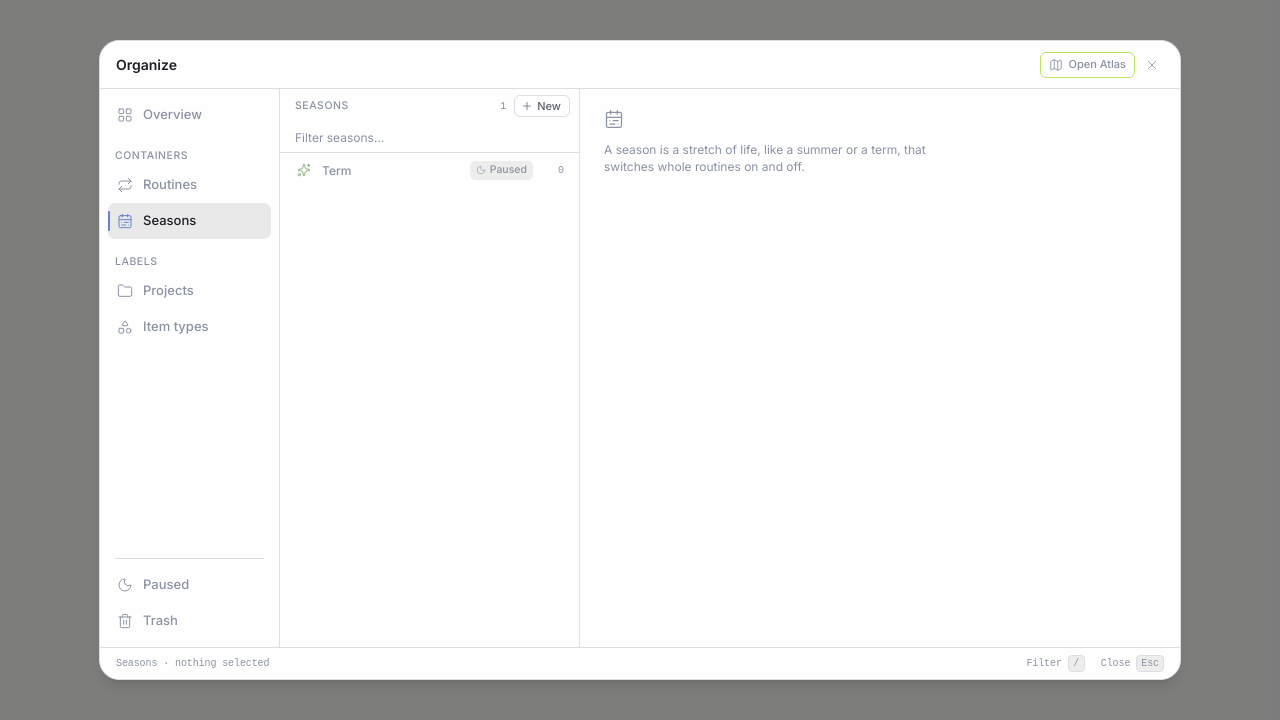
it: the seasons section › states what paused with {} actually means
The image size is (1280, 720).
Click the button with test id "season-row".
click(501, 170)  # box x1=288 y1=153 x2=571 y2=187
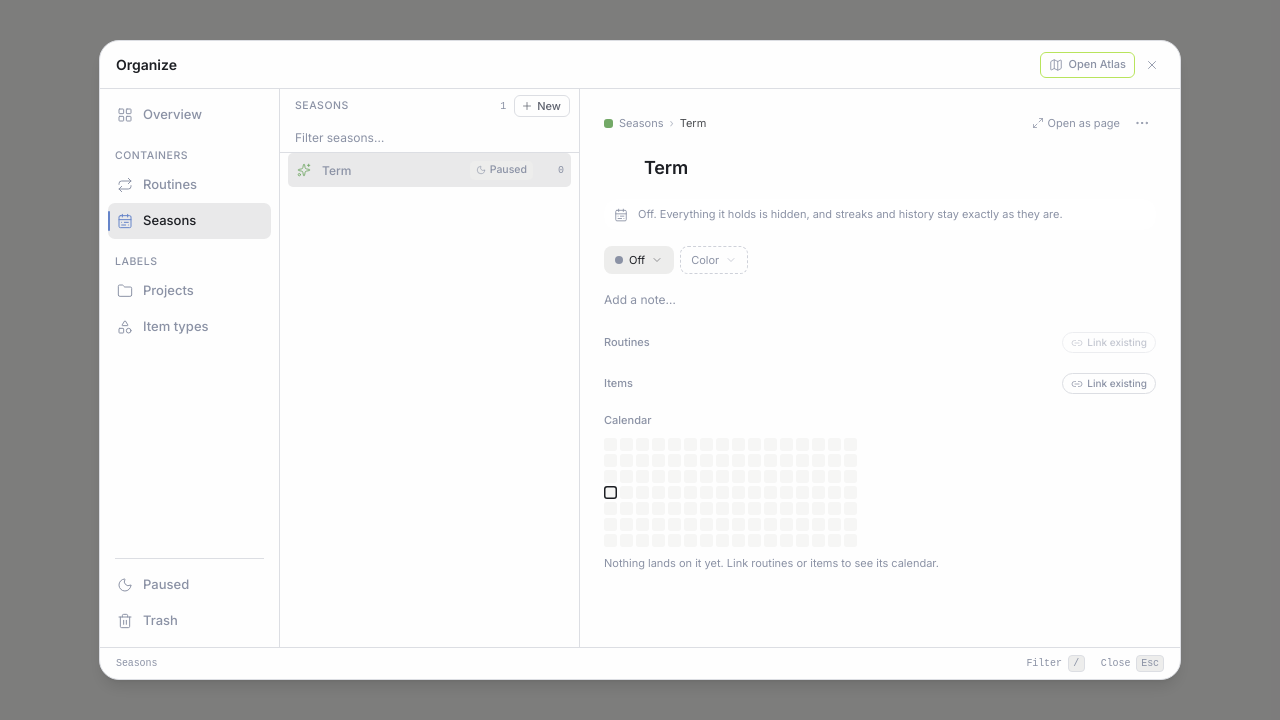
Check: the element with test id "season-state-note" shows "Off. Everything it holds is hidden", box x1=638 y1=207 x2=1063 y2=221
